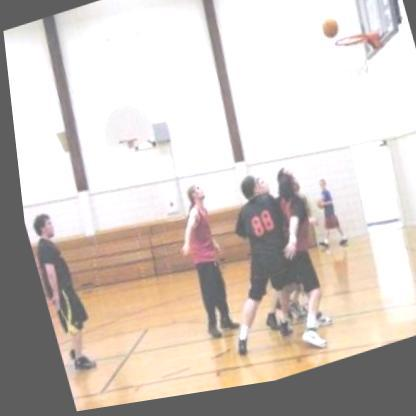basketball: (318, 23, 340, 50)
